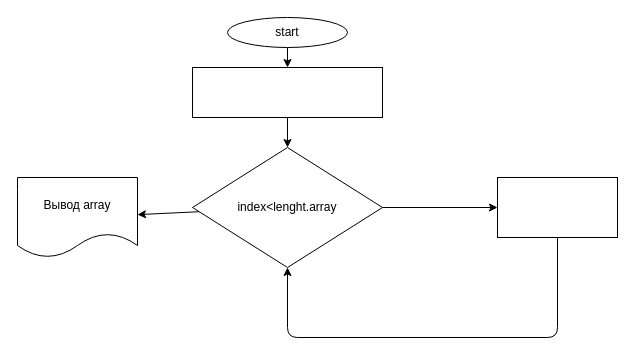
Image size: 635x363. Some labels were removed from this diagram. The shapes that lost their labels are listed below. From the top down, each one's centre as x and y in pixels, then its label:
At (x=287, y=92): "array[-10,10] length.array(10) index=0".
At (x=557, y=207): "array[index]=*-1 index++".
